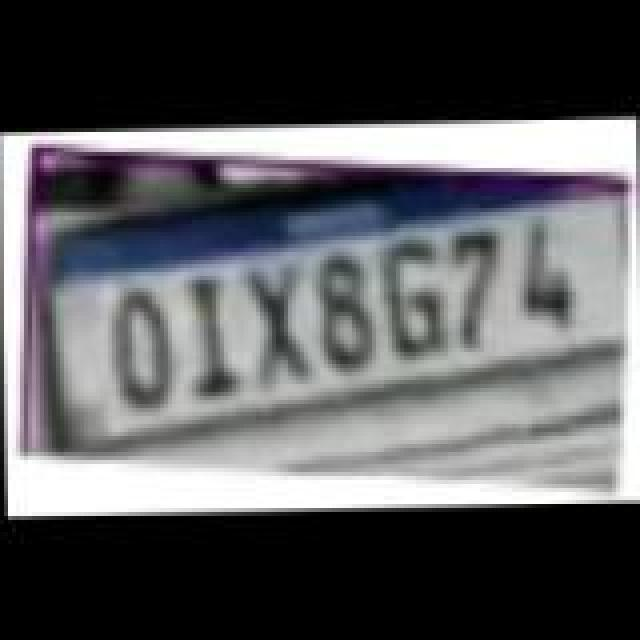4: (520, 222, 580, 330)
7: (444, 234, 512, 350)
8: (312, 258, 380, 378)
G: (376, 240, 452, 360)
I: (184, 278, 244, 402)
O: (110, 292, 182, 412)
X: (244, 264, 320, 388)
